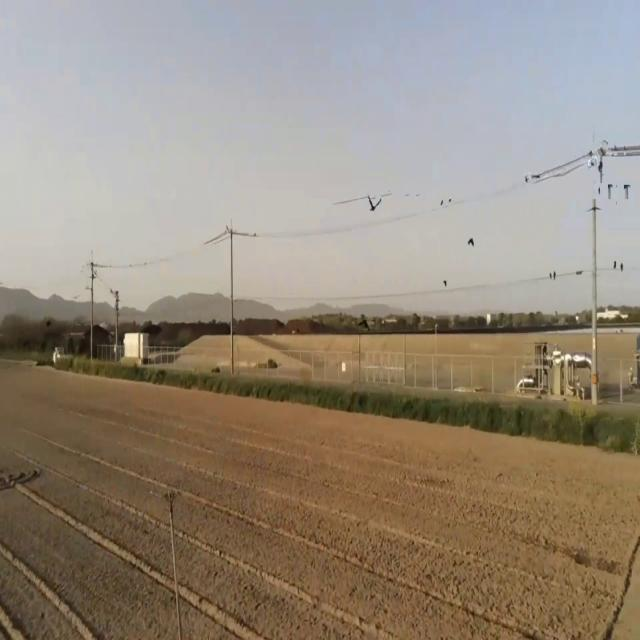bird: (367, 188, 384, 219), (467, 232, 474, 251), (599, 156, 603, 178), (443, 275, 447, 292), (552, 268, 556, 281), (440, 198, 444, 210), (525, 174, 528, 188)
